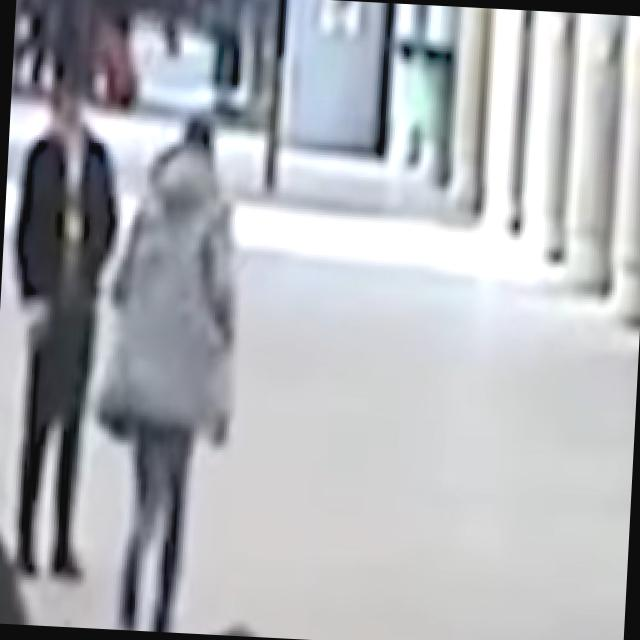person: (79, 110, 253, 636), (0, 59, 135, 582)
